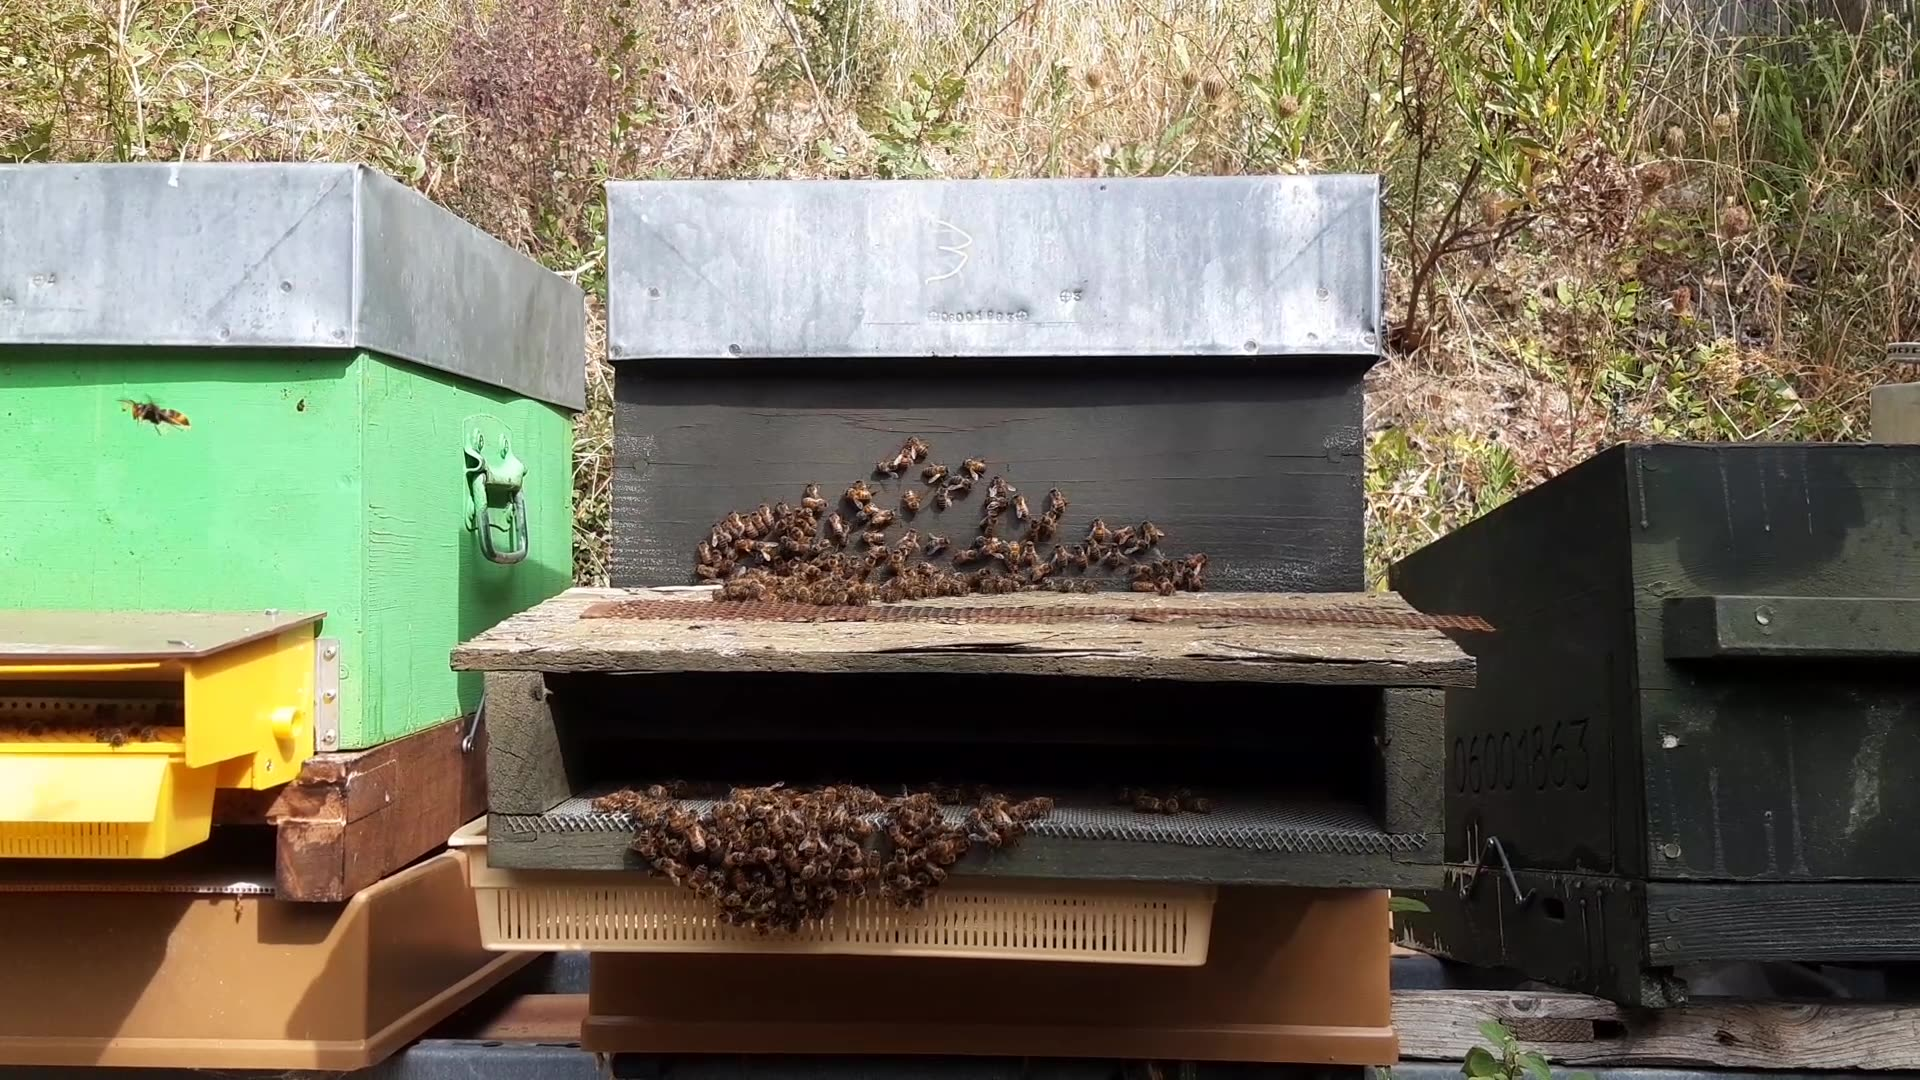bee: (729, 876, 807, 952), (613, 790, 694, 845), (960, 534, 1035, 589), (1100, 531, 1178, 583), (959, 789, 1033, 843), (851, 560, 932, 607), (732, 513, 808, 562), (855, 513, 924, 564), (741, 787, 814, 833), (1014, 513, 1077, 560), (938, 471, 996, 512), (887, 473, 947, 513), (889, 425, 945, 464), (1011, 498, 1065, 538)
